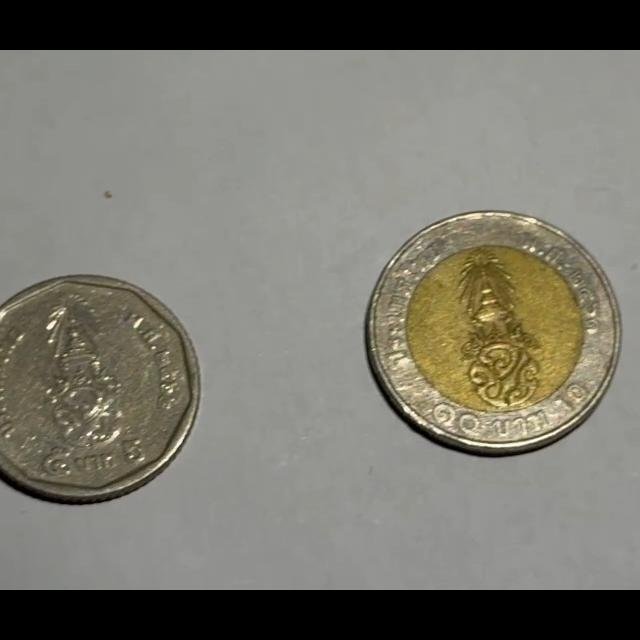10-baht: (365, 211, 620, 454)
5-baht: (0, 274, 198, 503)
